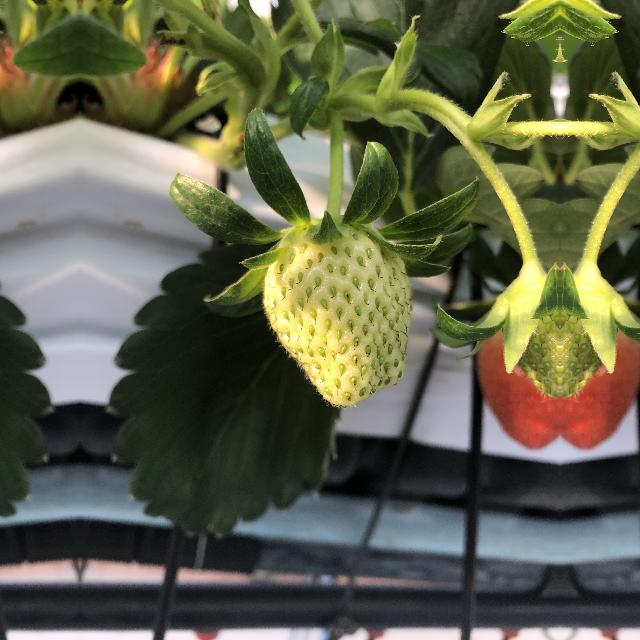Health_25: (253, 217, 417, 405)
